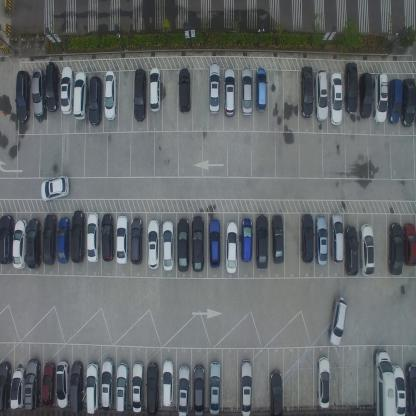car: (372, 348, 396, 415), (328, 294, 347, 348), (24, 356, 40, 412), (359, 222, 375, 277), (15, 69, 31, 124), (40, 174, 70, 203), (26, 216, 42, 270), (191, 213, 205, 272), (70, 209, 85, 264), (85, 360, 100, 415), (328, 72, 343, 127), (388, 222, 403, 276), (344, 223, 359, 277), (299, 65, 314, 119), (343, 61, 358, 115), (239, 358, 253, 415), (254, 214, 268, 270), (133, 67, 147, 123), (329, 212, 344, 264), (42, 213, 57, 265), (0, 213, 15, 265), (208, 359, 222, 414), (314, 68, 328, 123), (391, 364, 406, 415), (31, 67, 46, 118), (88, 75, 103, 126), (100, 357, 114, 411), (45, 62, 60, 112), (224, 220, 238, 273), (73, 71, 88, 120), (314, 214, 328, 266), (12, 217, 26, 269), (115, 361, 129, 413), (70, 359, 83, 415), (103, 70, 117, 122), (9, 365, 25, 410), (177, 217, 190, 272), (146, 361, 159, 416), (300, 212, 314, 263), (130, 215, 144, 266), (86, 211, 100, 262), (60, 64, 74, 115), (317, 355, 330, 409), (208, 218, 222, 268), (55, 359, 69, 409), (207, 62, 220, 115), (161, 358, 175, 407), (222, 68, 236, 117), (402, 77, 416, 126), (178, 363, 191, 415), (161, 219, 174, 271), (177, 66, 191, 114), (269, 367, 283, 415), (56, 216, 70, 264), (147, 219, 160, 270), (240, 66, 253, 117), (374, 72, 387, 123), (0, 359, 12, 414), (359, 72, 373, 119), (388, 78, 402, 125), (101, 212, 114, 262), (132, 361, 144, 414), (193, 363, 205, 415), (272, 213, 284, 265), (42, 362, 55, 410), (116, 215, 128, 265), (240, 216, 253, 262), (148, 66, 160, 114), (405, 361, 415, 416), (403, 222, 415, 267), (255, 66, 266, 113)
